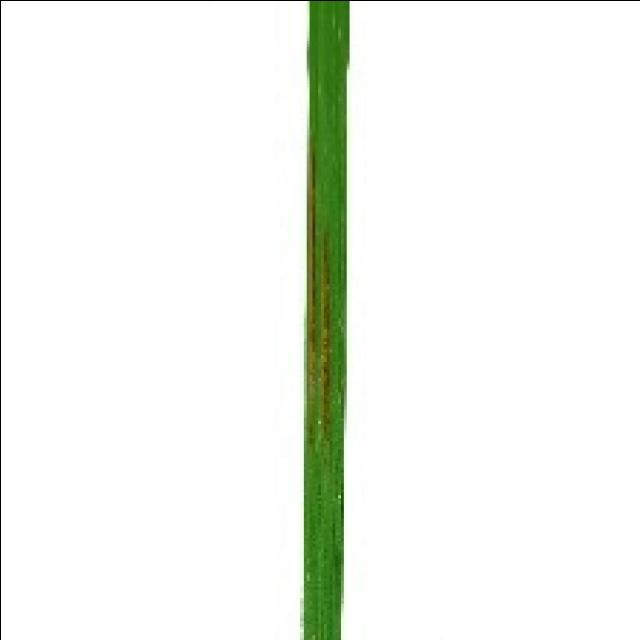Unhealthy: (318, 237, 331, 433), (309, 153, 315, 380)
